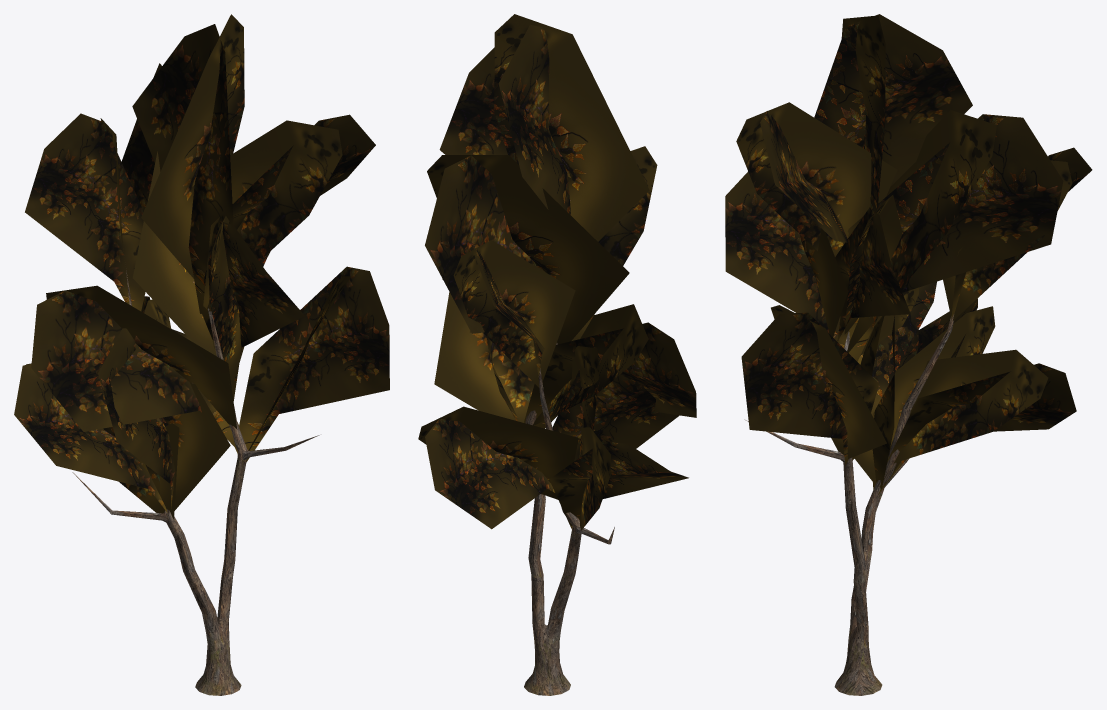
File: tree_6.fbx
3 views of the same model, side by side, from view 1: azimuth 30°, elevation 25°; view 2: azimuth 150°, elevation 25°; view 3: azimuth 270°, elevation 25° (orthographic). The views are drawn at different scales.
Parts seen in each view (by area): view 1: Mesh Object; view 2: Mesh Object; view 3: Mesh Object.
Boxes of the visible parts, box(x1,y1,x2,y2) form: Mesh Object: box(14, 14, 389, 695); Mesh Object: box(418, 14, 696, 695); Mesh Object: box(725, 14, 1092, 695).
Size of the model in its own units: 4.42 by 9.76 by 4.77.
